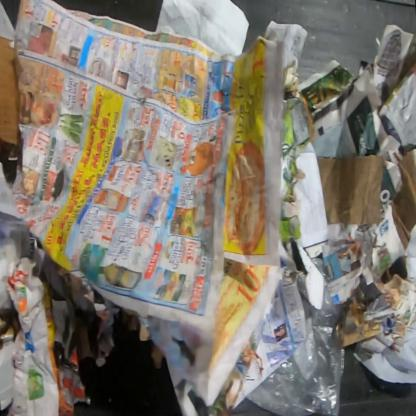cardboard: (278, 60, 316, 242), (316, 154, 384, 224), (390, 145, 415, 253), (0, 35, 21, 147)
soft_plastic: (245, 283, 345, 415)
